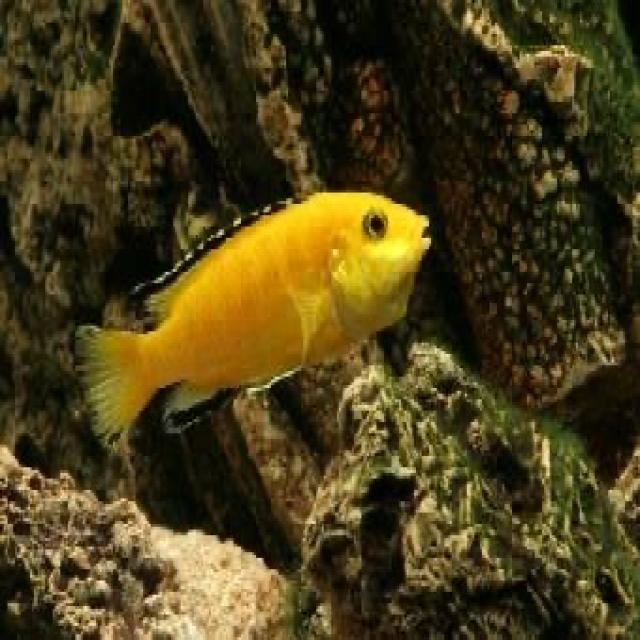YellowCichlid: (74, 188, 432, 438)
